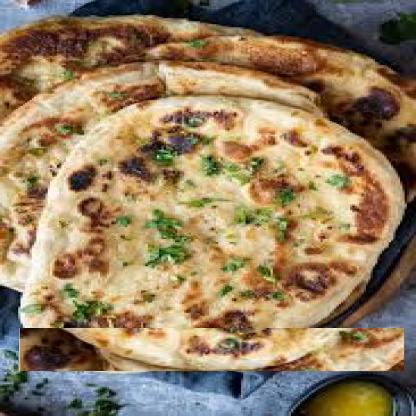naan: (0, 14, 416, 328), (19, 93, 404, 371), (0, 60, 322, 294)
